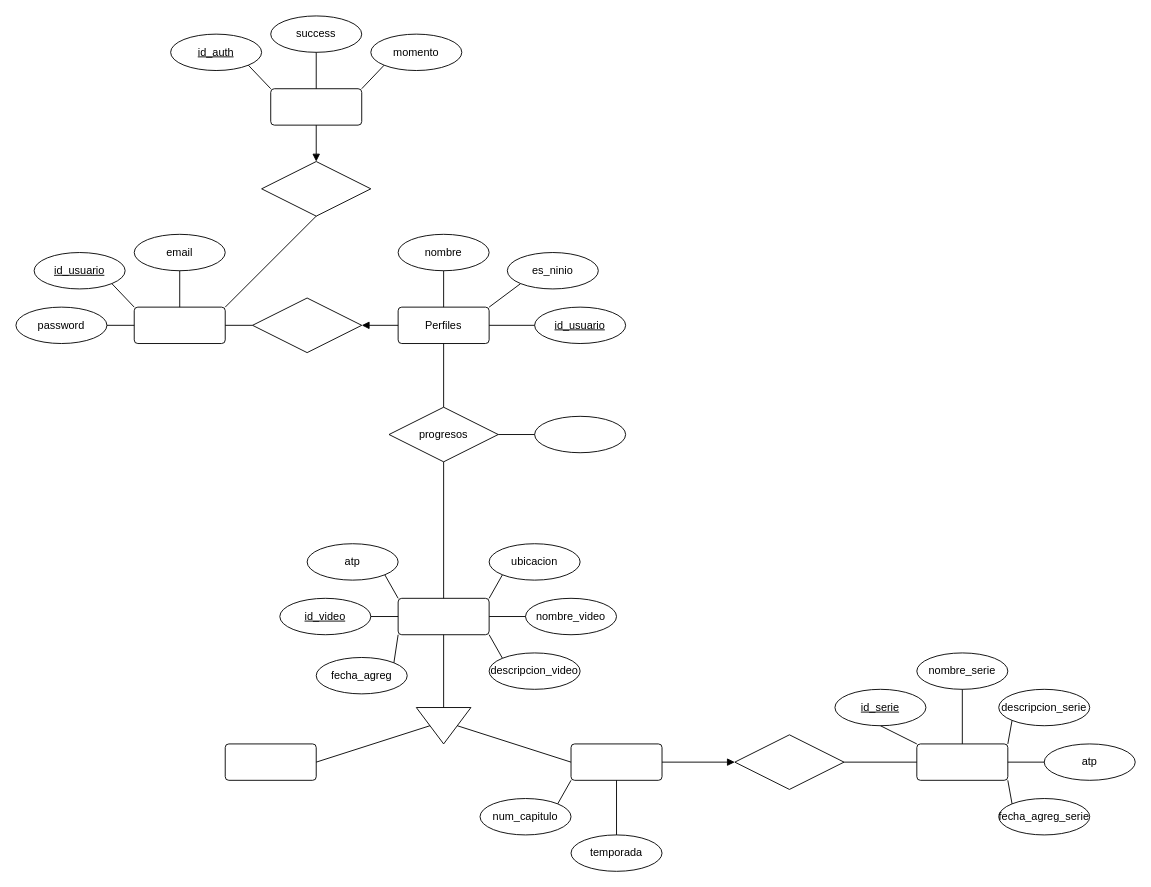
The diagram is 1151 pixels wide and 887 high, and some of its shapes have lost their labels. Here are the shapes that lost their labels. From the top down, the centre of each, then its label:
(316,106): Autenticaciones
(179,325): Usuarios
(307,325): perfiles_usuarios
(580,434): progreso
(443,616): Videos
(270,761): Peliculas
(616,761): Capitulos
(962,761): Series
